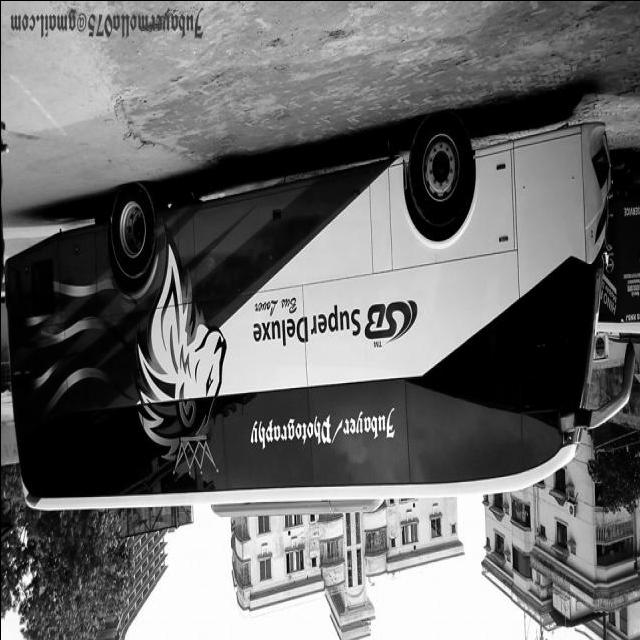bus: (4, 105, 635, 518)
